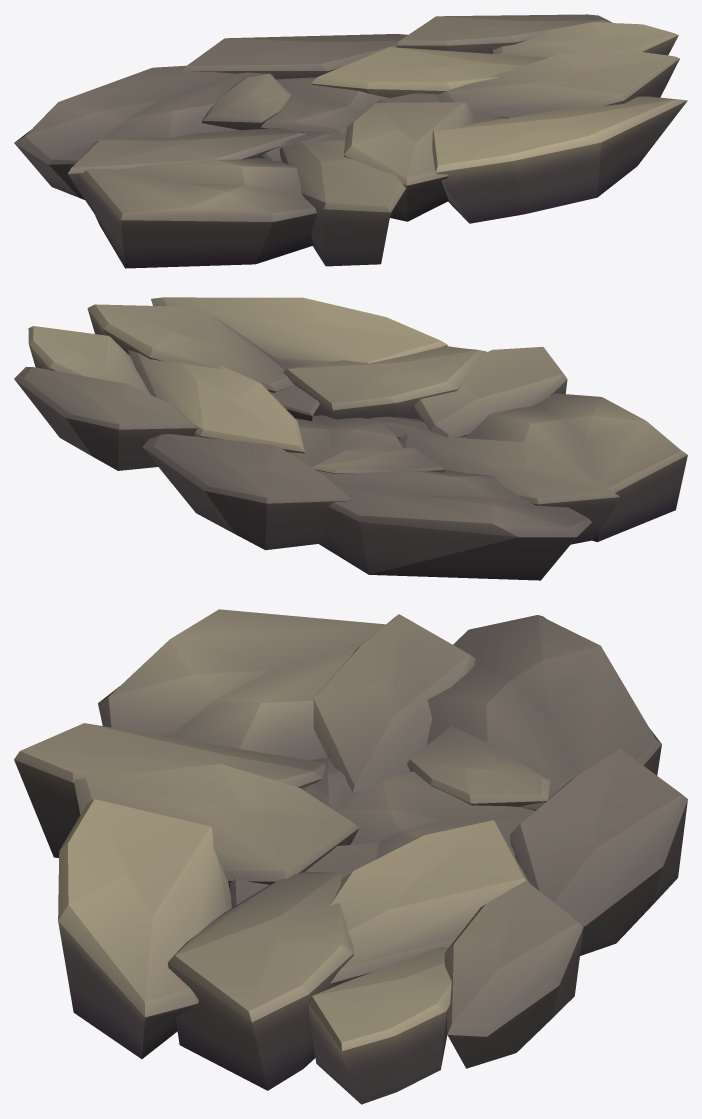
Rendered from Stones_Ground.fbx.
3 renders of one model, top to bottom at view 1: azimuth 30°, elevation 25°; view 2: azimuth 150°, elevation 25°; view 3: azimuth 270°, elevation 25°, orthographic. The views are drawn at different scales.
Parts seen in each view (by area): view 1: Stones_Ground; view 2: Stones_Ground; view 3: Stones_Ground.
Part boxes in pixels (x1,y1,x2,y2): Stones_Ground: (14, 14, 687, 268); Stones_Ground: (14, 297, 687, 580); Stones_Ground: (14, 609, 687, 1104).
Size of the model in its own units: 33.2 by 4.01 by 21.03.
